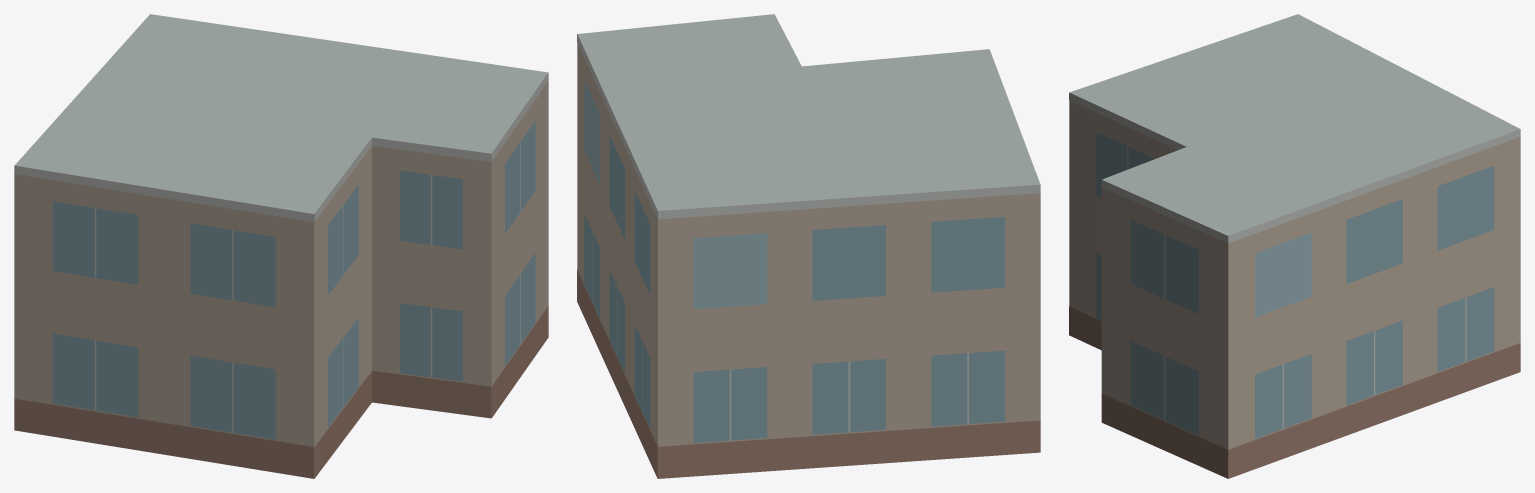
The model's file is survey-upis-32499398.glb.
3 renders of one model, left to right at view 1: azimuth 30°, elevation 25°; view 2: azimuth 150°, elevation 25°; view 3: azimuth 270°, elevation 25°, orthographic. The views are drawn at different scales.
Visible parts, largest first — view 1: survey-upis-32499398.tmp; view 2: survey-upis-32499398.tmp; view 3: survey-upis-32499398.tmp.
Part boxes in pixels (bbox=[...]): survey-upis-32499398.tmp: bbox=[14, 14, 548, 478]; survey-upis-32499398.tmp: bbox=[577, 14, 1040, 478]; survey-upis-32499398.tmp: bbox=[1069, 14, 1520, 478].
Bounding box in the file's own units: 15.3 × 7.8 × 13.15.
